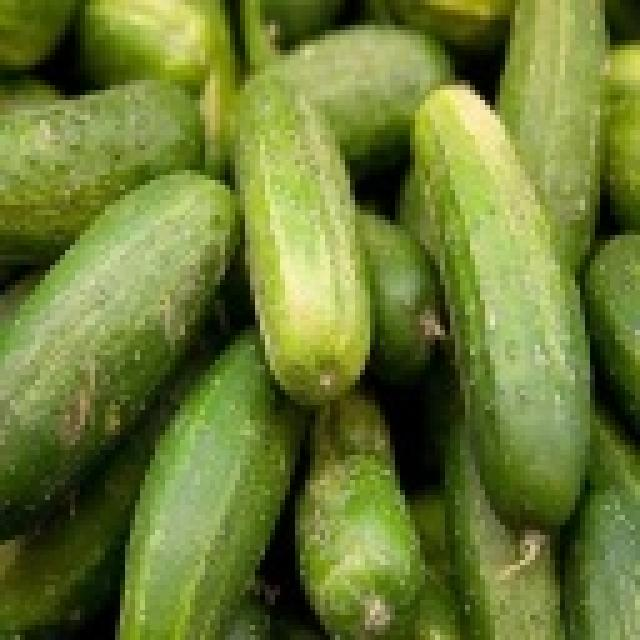Cucumber: (19, 173, 236, 406), (450, 204, 598, 538), (234, 78, 370, 402), (116, 383, 287, 636), (292, 424, 424, 640), (410, 85, 530, 268)
